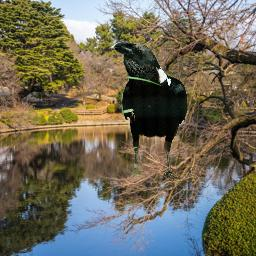Crow: (110, 41, 187, 181)
